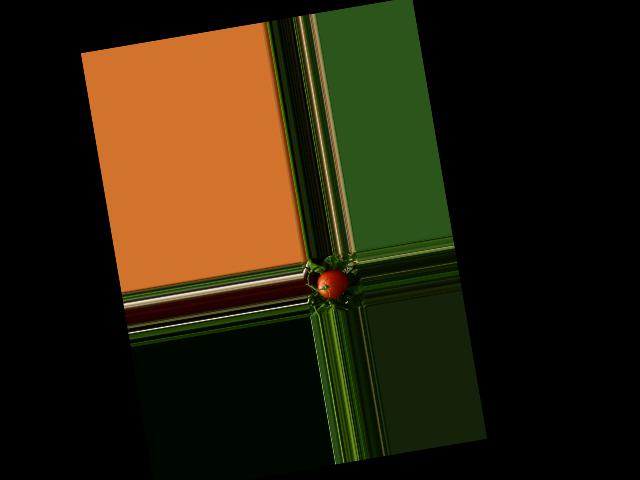tomato: (315, 268, 350, 300)
